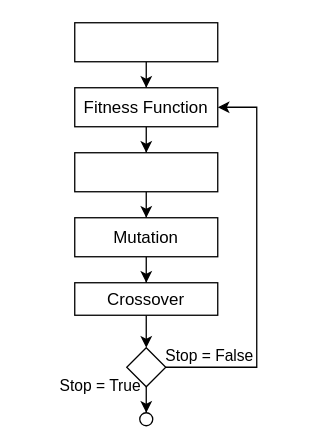
The diagram is 309 pixels wide and 448 high, and some of its shapes have lost their labels. The shapes that lost their labels are listed below. From the top down, each one's box as (x1, y1, x2, y2) in pixels, then its label:
(73, 21, 218, 62): Initial Population
(73, 151, 218, 192): Selection
